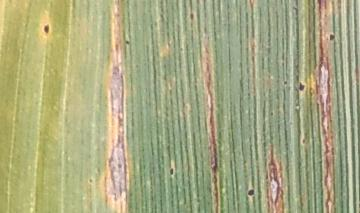tarspot: (298, 81, 306, 90), (43, 24, 50, 34), (247, 188, 254, 196), (168, 167, 174, 176), (329, 34, 335, 41), (125, 39, 130, 45)
